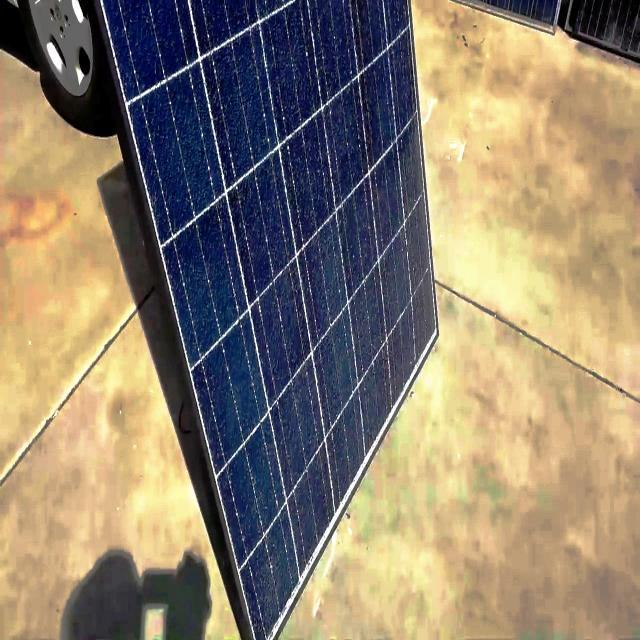faulty: (101, 1, 439, 640)
